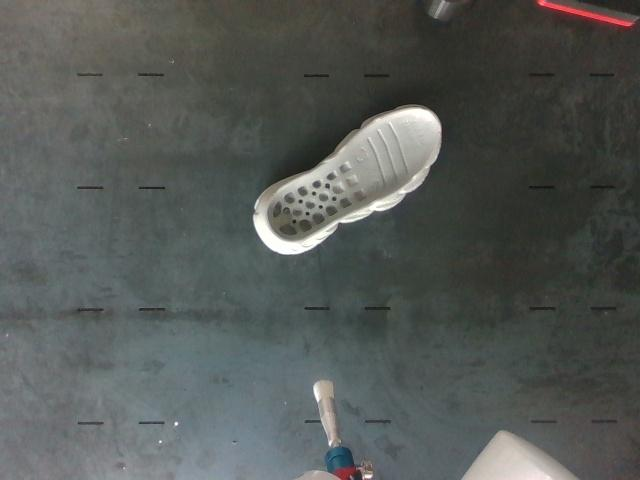shoes: (266, 107, 441, 241)
